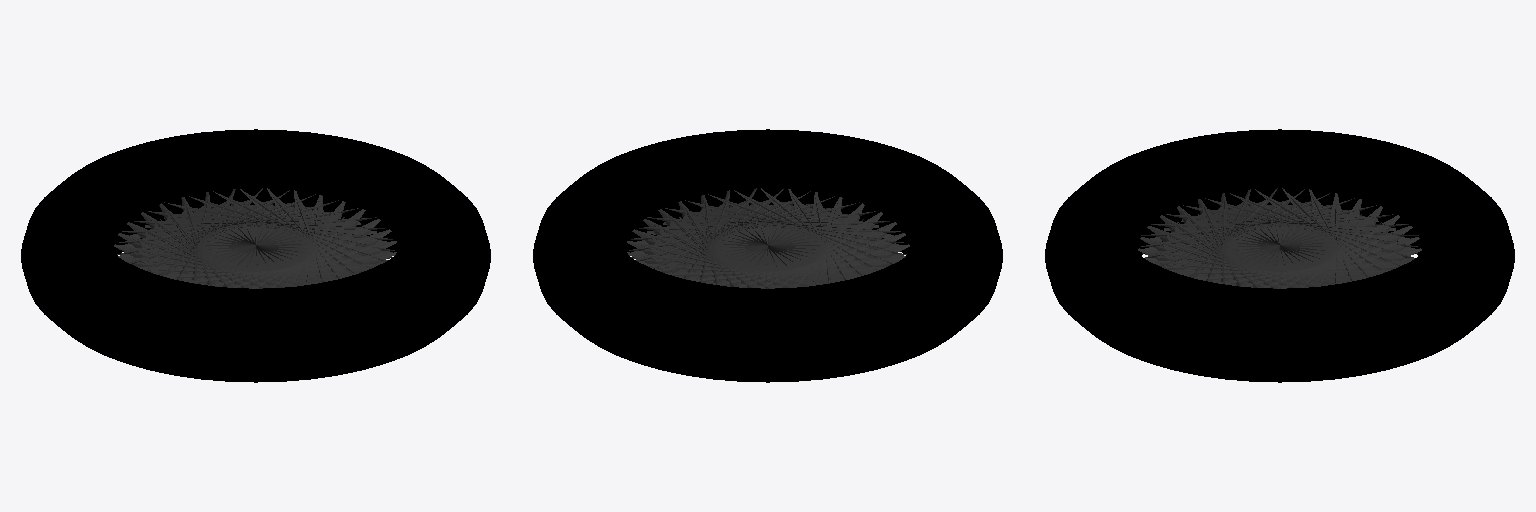
The model's file is tyre.obj.
The picture shows the model from 3 angles: view 1: azimuth 30°, elevation 25°; view 2: azimuth 150°, elevation 25°; view 3: azimuth 270°, elevation 25°; orthographic projection.
Visible parts, largest first — view 1: Torus, Cylinder; view 2: Torus, Cylinder; view 3: Torus, Cylinder.
Boxes of the visible parts, <box> form: Torus: <box>21,129,490,382</box>; Cylinder: <box>114,188,396,288</box>; Torus: <box>533,129,1002,382</box>; Cylinder: <box>627,188,909,288</box>; Torus: <box>1045,129,1514,382</box>; Cylinder: <box>1138,188,1421,288</box>.
Bounding box in the file's own units: 2.5 × 0.5 × 2.5.